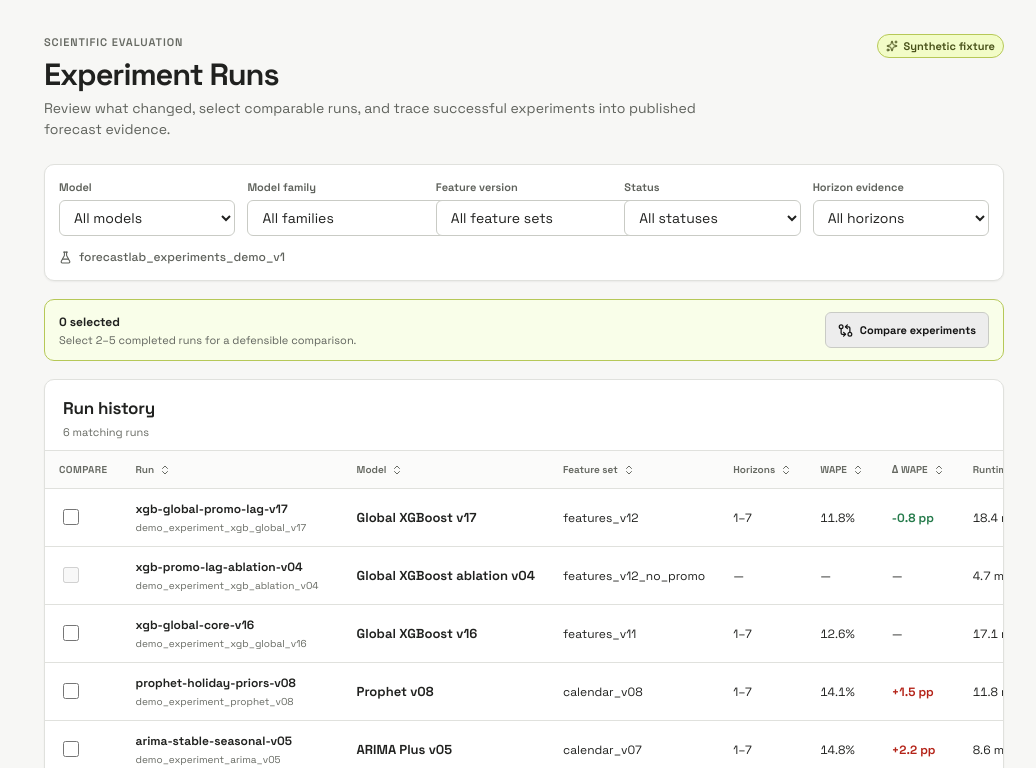
Scenario: ExperimentRunsPage › persists selected runs and enables comparison after two selections
Expected: the heading "Experiment Runs" is shown, [44, 54, 278, 94]
Click the checkbox named "Compare xgb-global-promo-lag-v17": (71,517) [63, 509, 79, 525]
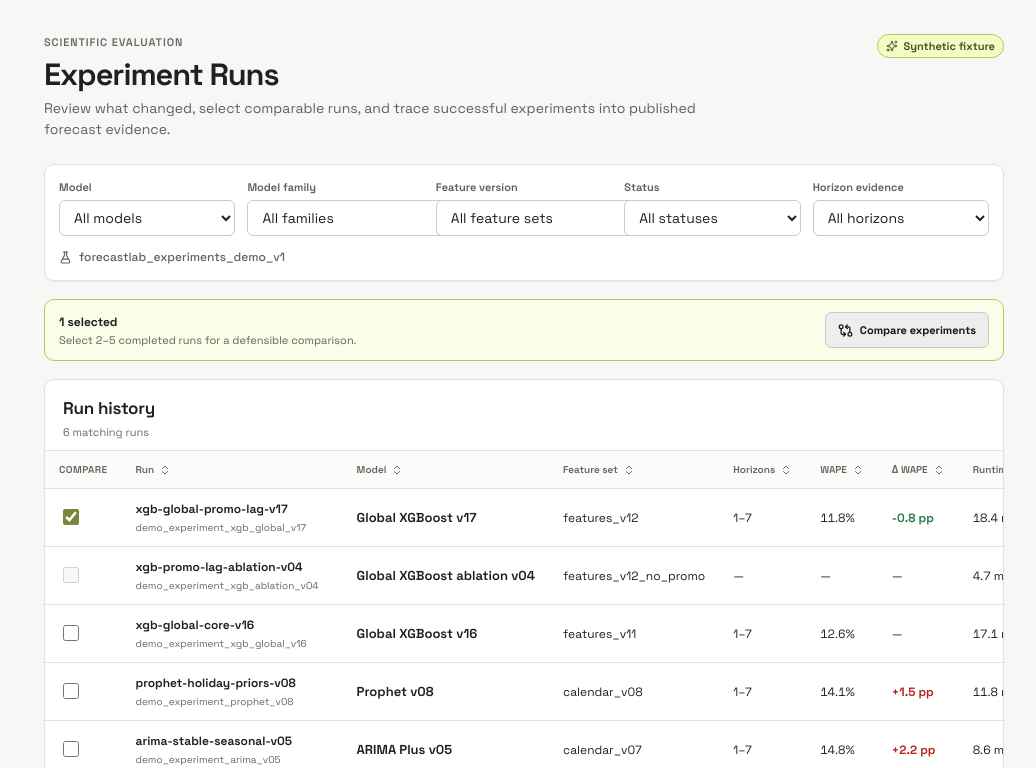
Click the checkbox named "Compare xgb-global-core-v16": (71,633) [63, 625, 79, 641]
(page scrolled)
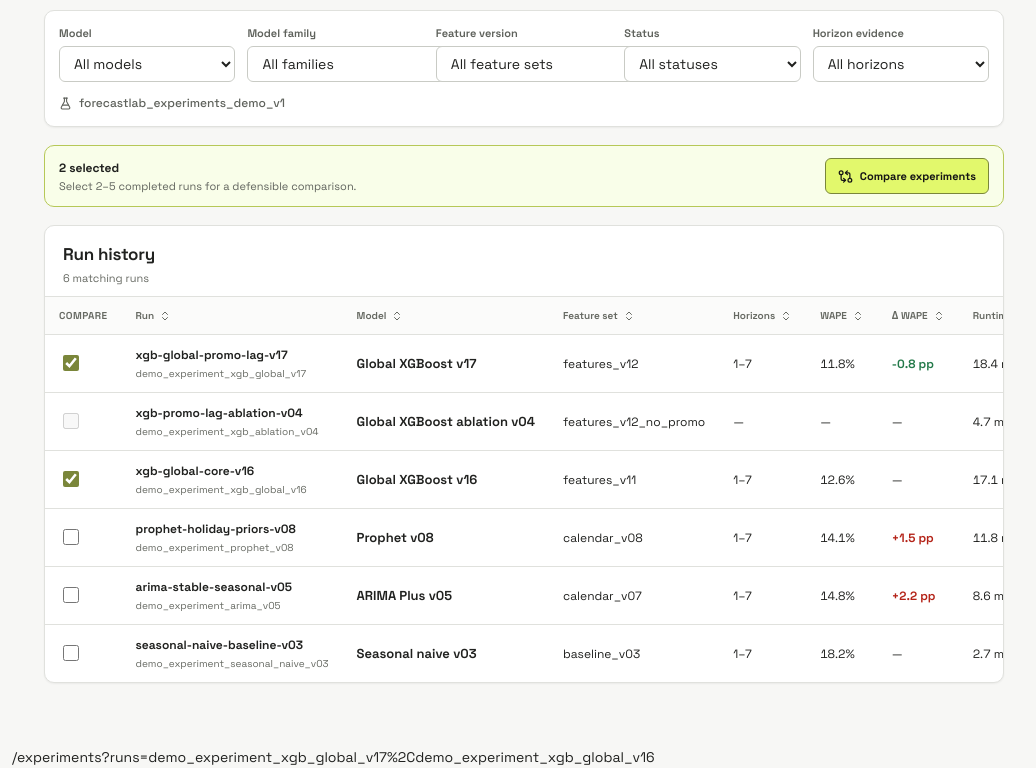
Expected: the text with test id "location" shows "runs=demo_experiment_xgb_global_v17%2Cdemo_experiment_xgb_global_v16", [12, 748, 655, 766]
